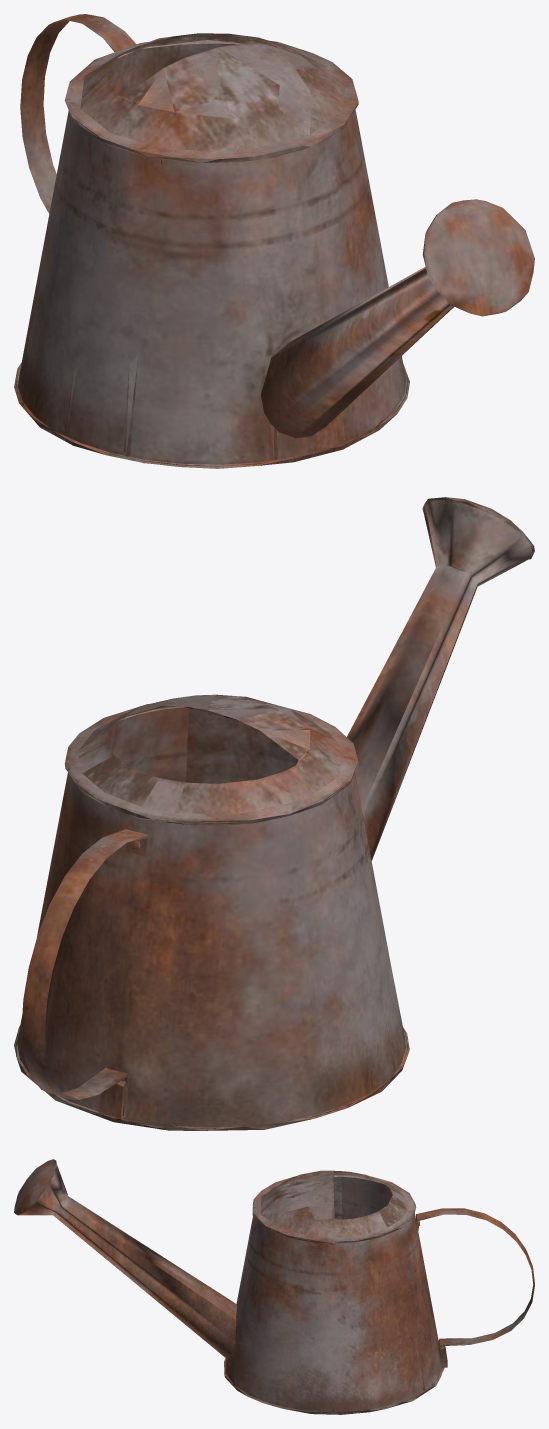
Rendered from watering_can_metal_01.glb.
The picture shows the model from 3 angles, top to bottom: view 1: azimuth 30°, elevation 25°; view 2: azimuth 150°, elevation 25°; view 3: azimuth 270°, elevation 25°; orthographic projection. The views are drawn at different scales.
Visible parts, largest first — view 1: watering_can_metal_01; view 2: watering_can_metal_01; view 3: watering_can_metal_01.
Part boxes in pixels (bbox=[...]): watering_can_metal_01: bbox=[14, 14, 534, 468]; watering_can_metal_01: bbox=[14, 497, 534, 1130]; watering_can_metal_01: bbox=[14, 1159, 534, 1414].
Size of what is drawn, in the model's own units: 0.1912 by 0.1969 by 0.4519.
1 material, 1 textured.
